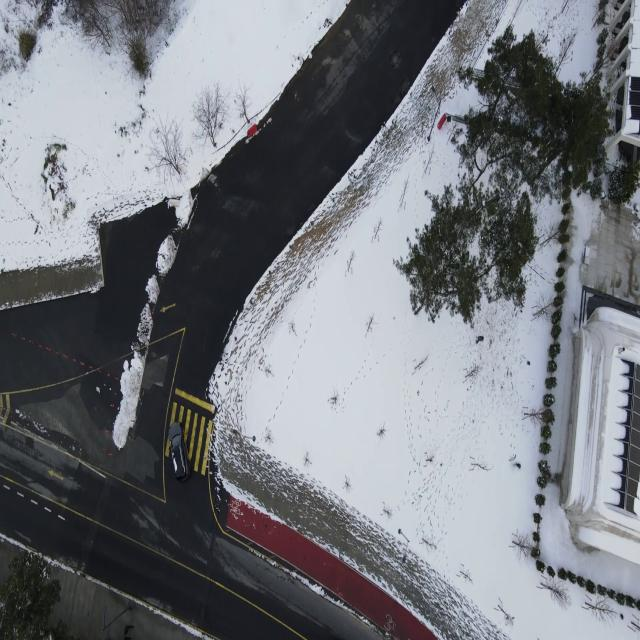p3rson: (124, 623, 134, 635), (475, 335, 484, 344)
